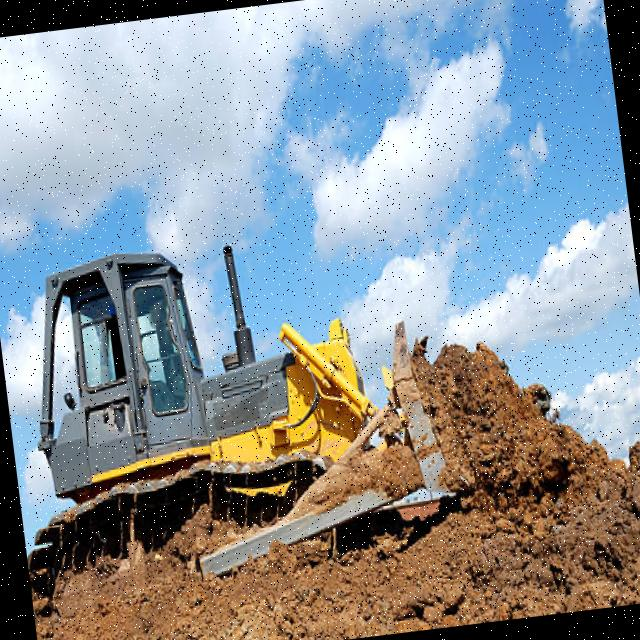Bulldozer: (0, 197, 577, 611)
